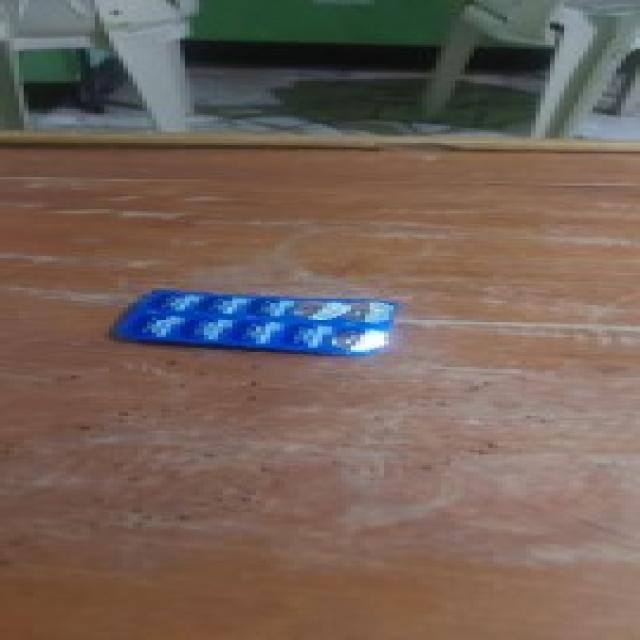Cacat: (115, 286, 396, 355)
Kemasan: (289, 300, 391, 326), (335, 328, 393, 353)
